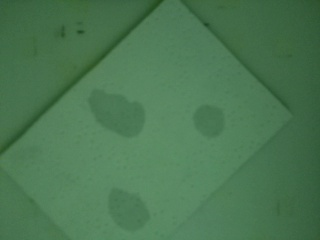Water_detected: (100, 98, 142, 138), (198, 107, 223, 141), (120, 186, 143, 217)
